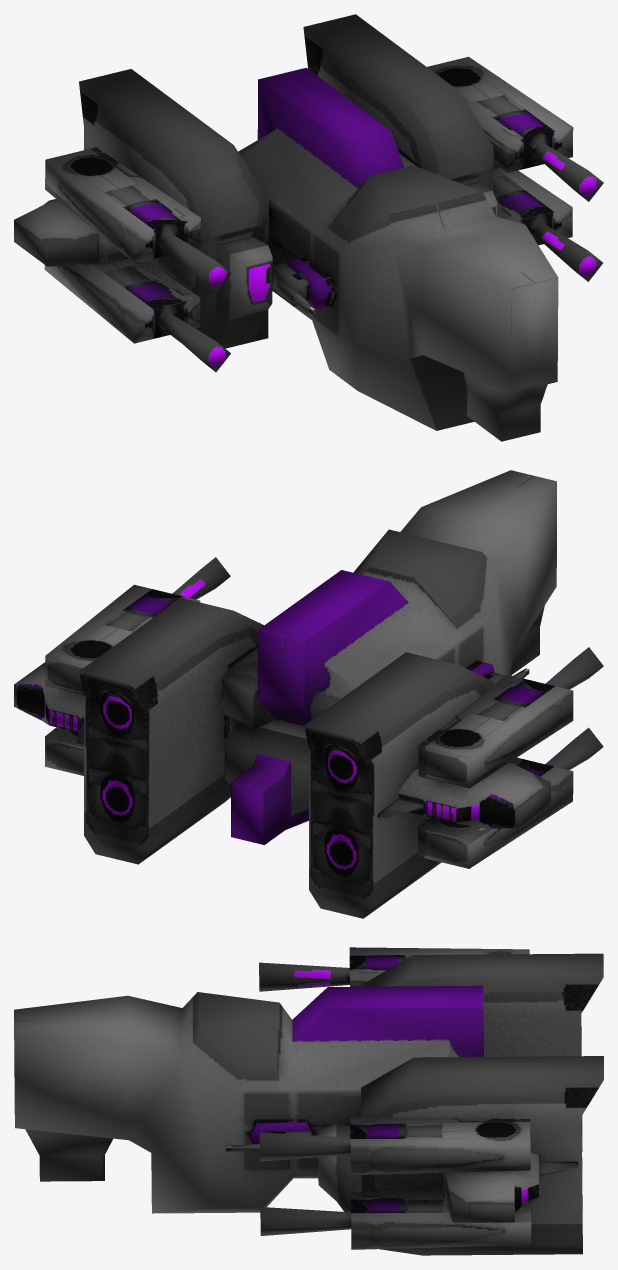
The model's file is purple_spaceship_03.fbx.
3 renders of one model, top to bottom at view 1: azimuth 30°, elevation 25°; view 2: azimuth 150°, elevation 25°; view 3: azimuth 270°, elevation 25°, orthographic. The views are drawn at different scales.
Parts seen in each view (by area): view 1: PFrigateMod; view 2: PFrigateMod; view 3: PFrigateMod.
Boxes of the visible parts, x1,y1,x2,y2 form: PFrigateMod: (14,14,603,441); PFrigateMod: (14,470,603,918); PFrigateMod: (14,947,603,1255).
Size of the model in its own units: 80717 by 88105 by 33905.
1 material, 1 textured.
